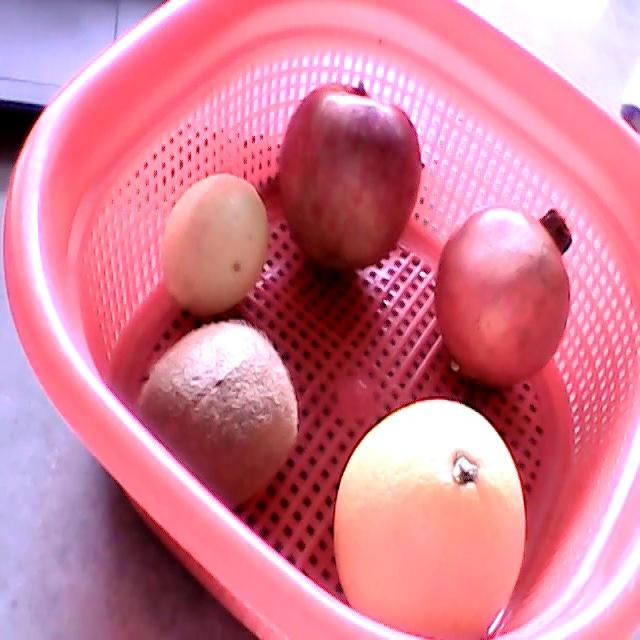apple: (278, 83, 422, 272)
kiwi: (136, 321, 298, 511)
lemon: (162, 174, 268, 317)
orange: (334, 398, 526, 639)
pomegranate: (433, 200, 573, 387)
